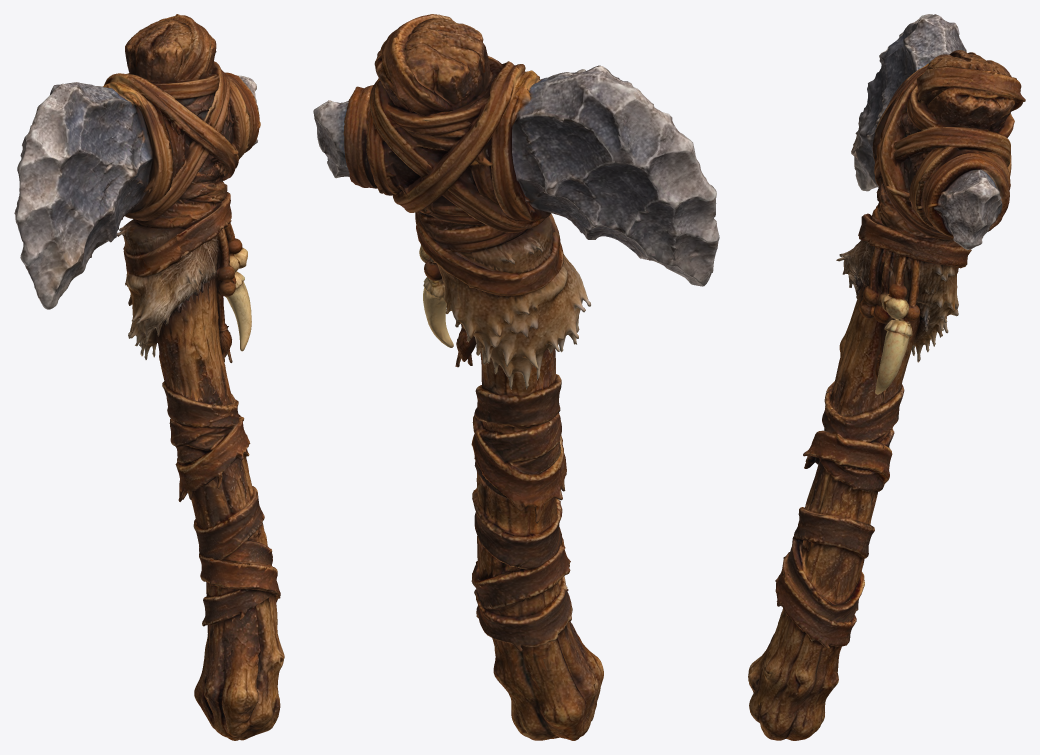
The model's file is SK_StoneAxe_Tripo.glb.
3 renders of one model, left to right at view 1: azimuth 30°, elevation 25°; view 2: azimuth 150°, elevation 25°; view 3: azimuth 270°, elevation 25°, orthographic. The views are drawn at different scales.
Parts seen in each view (by area): view 1: SK_StoneAxe_Tripo; view 2: SK_StoneAxe_Tripo; view 3: SK_StoneAxe_Tripo.
Part boxes in pixels (x1=…): SK_StoneAxe_Tripo: x1=14, y1=14, x2=284, y2=740; SK_StoneAxe_Tripo: x1=313, y1=14, x2=719, y2=740; SK_StoneAxe_Tripo: x1=748, y1=14, x2=1025, y2=740.
Bounding box in the file's own units: 0.4517 × 0.9802 × 0.3602.
Materials: 1 (1 with a texture image).
